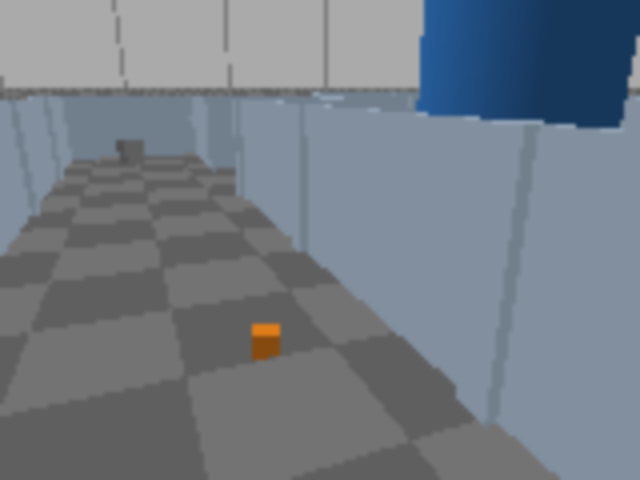obstacle: (116, 139, 147, 164)
person: (421, 0, 638, 312)
puck: (252, 322, 279, 359)
